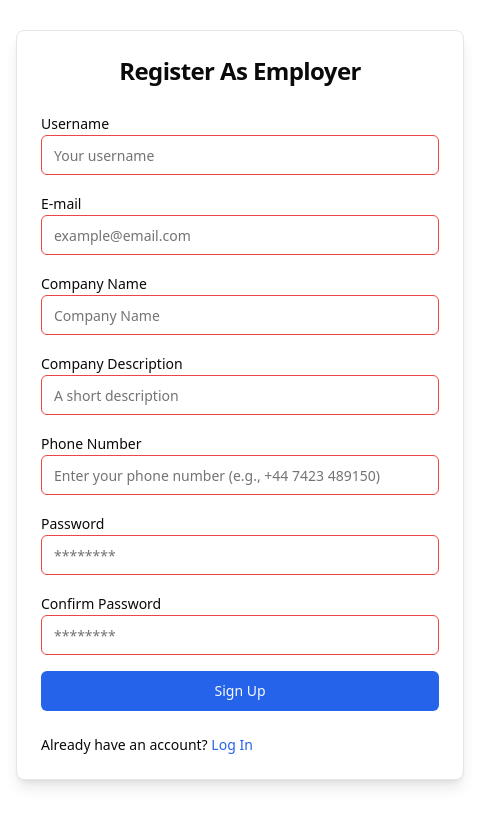
Test: Company Signup Page › handles Supabase employer insertion error
# Fill form with valid data
In the field labelled "Username": [240, 155] box [41,135,439,175], type "companyuser"
In the field labelled "E-mail": [240, 235] box [41,215,439,255], type "company@example.com"
In the field labelled "Company Name": [240, 315] box [41,295,439,335], type "Test Company"
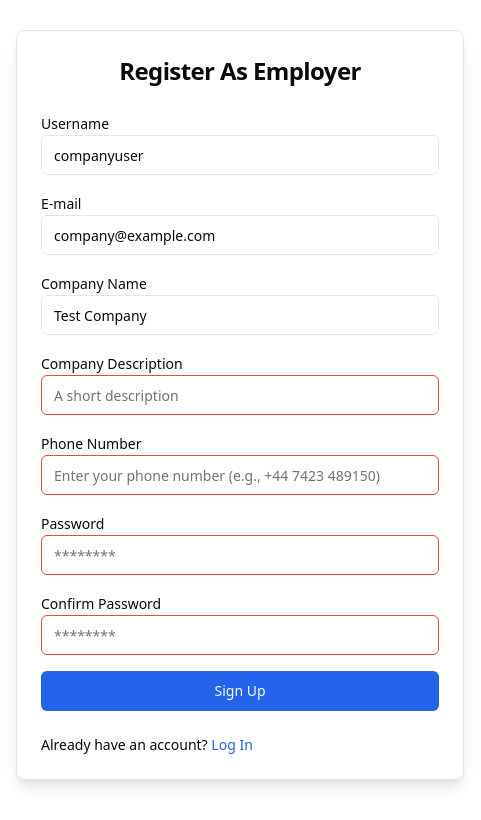
In the field labelled "Company Description": [240, 395] box [41,375,439,415], type "A software company"
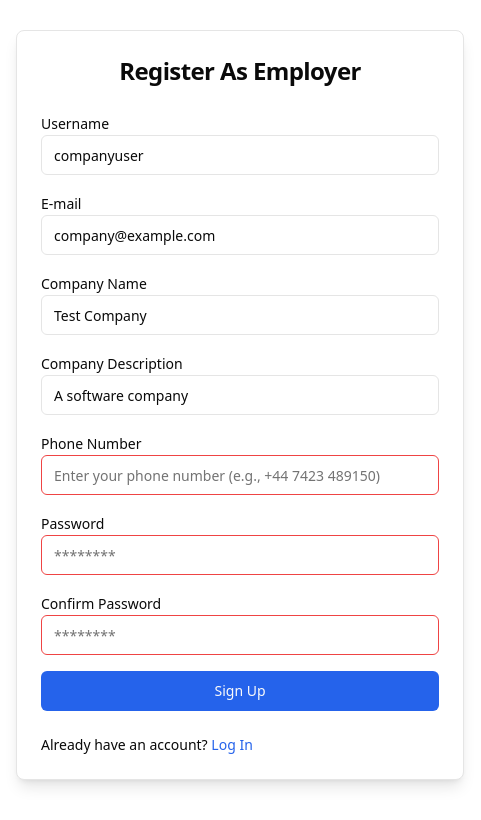
In the field labelled "Phone Number": [240, 475] box [41,455,439,495], type "+44 7423 489150"
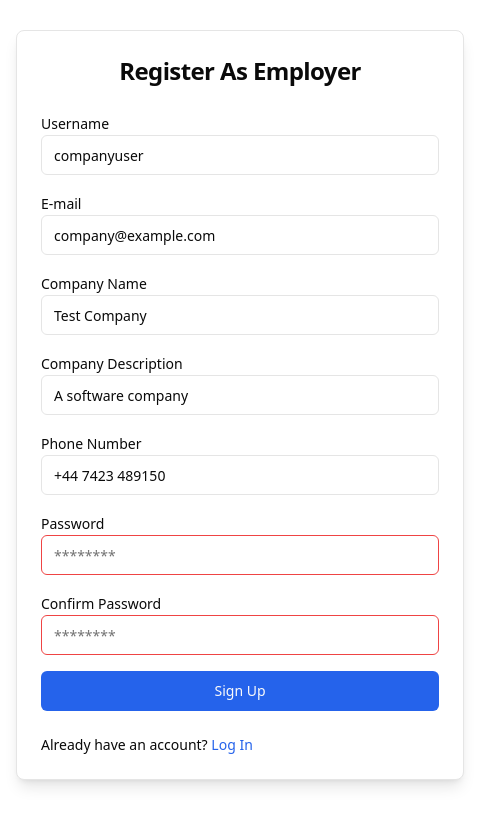
In the password field labelled "Password": [240, 555] box [41,535,439,575], type "password123"
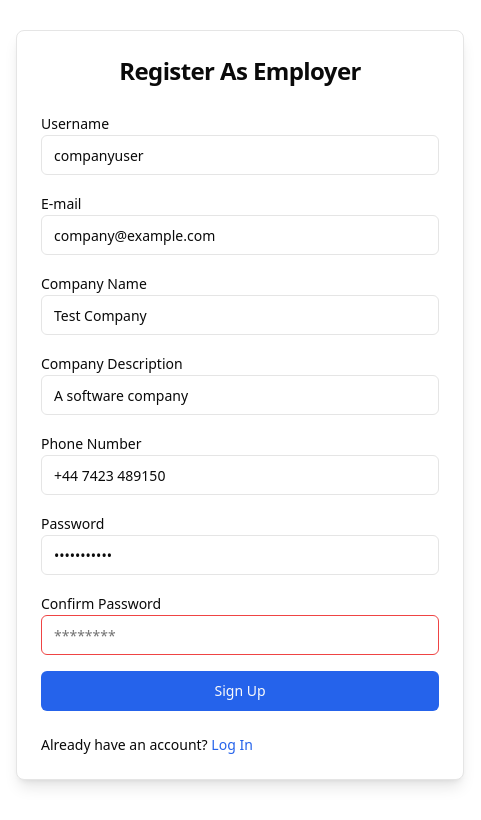
In the password field labelled "Confirm Password": [240, 635] box [41,615,439,655], type "password123"
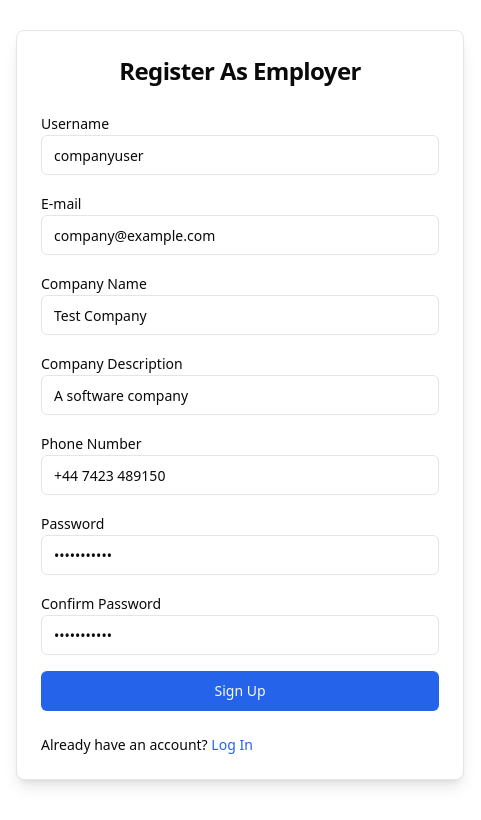
# Submit form
Submit the form from the button "Sign Up", box [41,671,439,711]
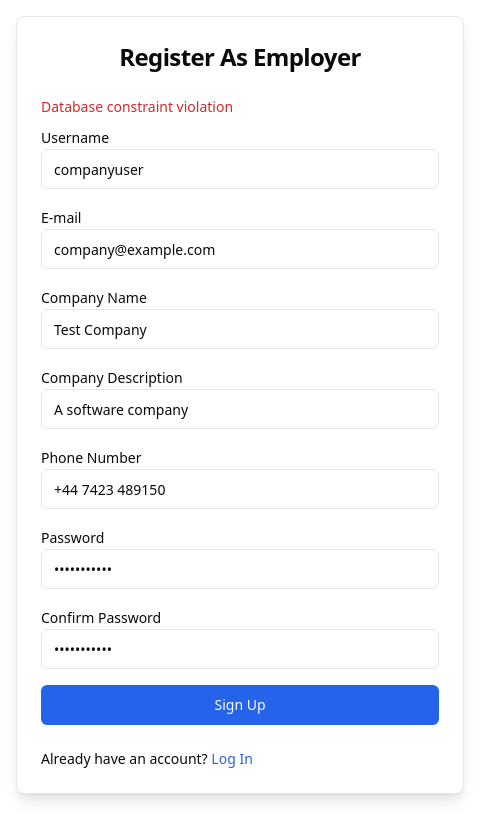
Expected: the text "Database constraint violation" is shown, [41,97,233,116]
